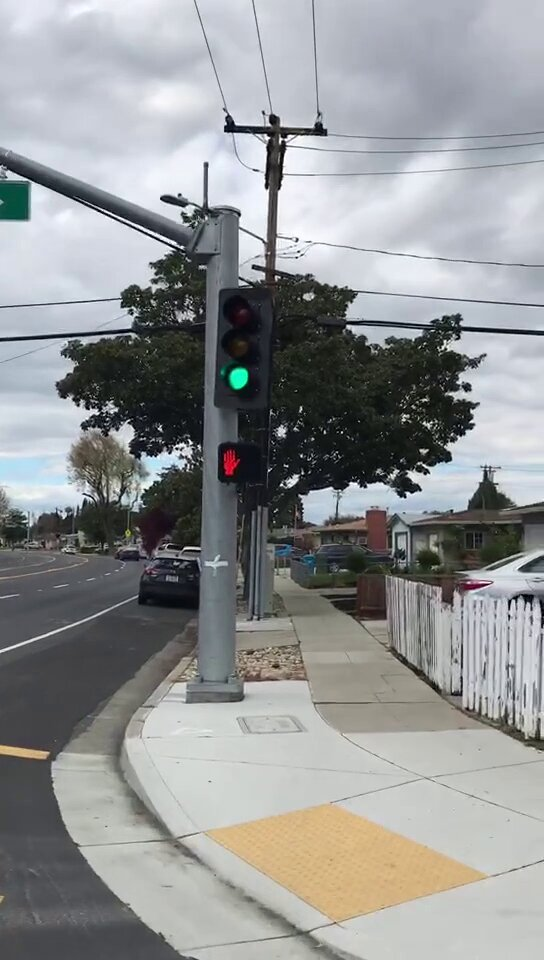green_light: (220, 291, 266, 410)
